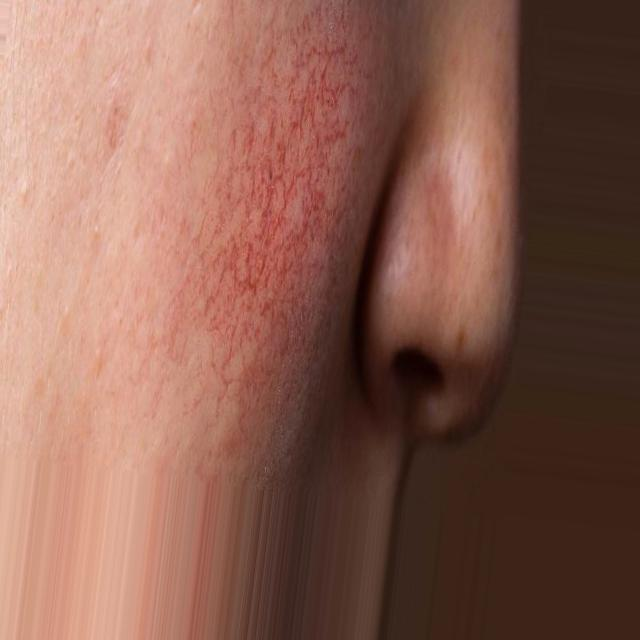Rosacea: (183, 26, 365, 401)
